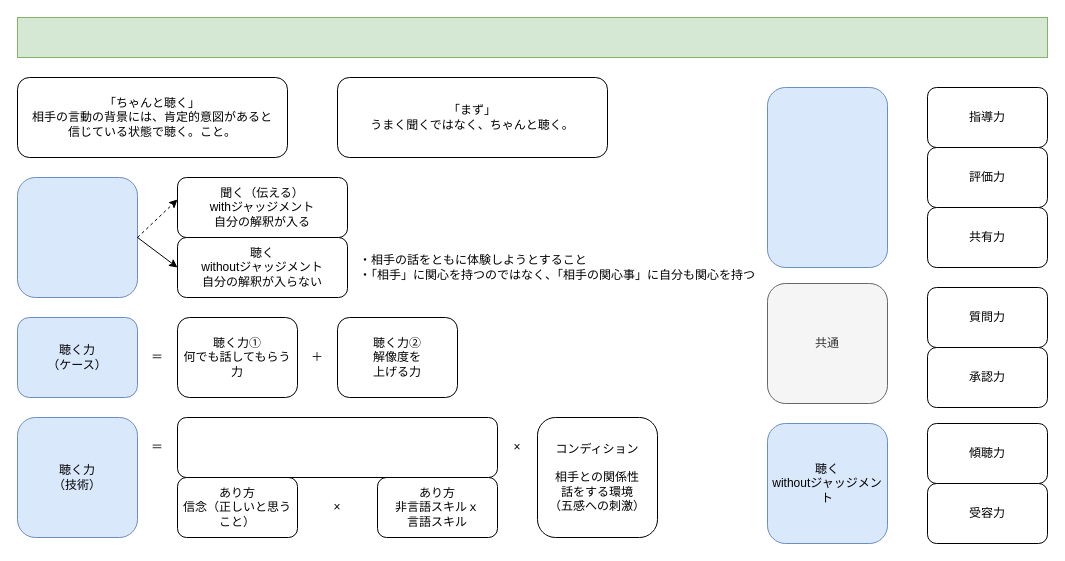
This 1065x561 diagram has some shape labels left out. Here are the shapes that lost their labels. From the top down, the centre of each, then its label:
At (532,37): "まず、ちゃんと聴く。".
At (827,177): "聞く withジャッジメント".
At (77,237): "聴く".
At (337,447): "聴く技術".
